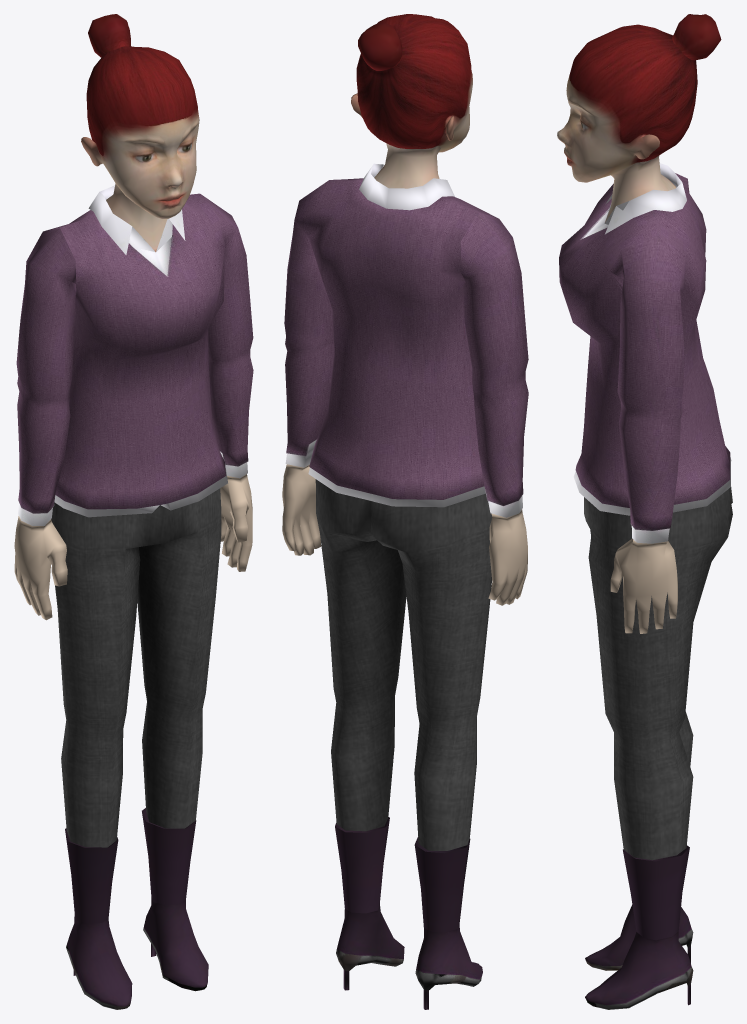
File: NPC7.glb
3 views of the same model, side by side, from view 1: azimuth 30°, elevation 25°; view 2: azimuth 150°, elevation 25°; view 3: azimuth 270°, elevation 25° (orthographic). The views are drawn at different scales.
Parts seen in each view (by area): view 1: F_lBody_BaseMesh.001mesh.002; view 2: F_lBody_BaseMesh.001mesh.002; view 3: F_lBody_BaseMesh.001mesh.002.
Part boxes in pixels (x1,y1,x2,y2): F_lBody_BaseMesh.001mesh.002: (14,14,253,1009); F_lBody_BaseMesh.001mesh.002: (282,14,528,1009); F_lBody_BaseMesh.001mesh.002: (557,14,732,1009).
Size of what is drawn, in the model's own units: 0.4791 by 1.91 by 0.3137.
Materials: 2 (2 with a texture image).
